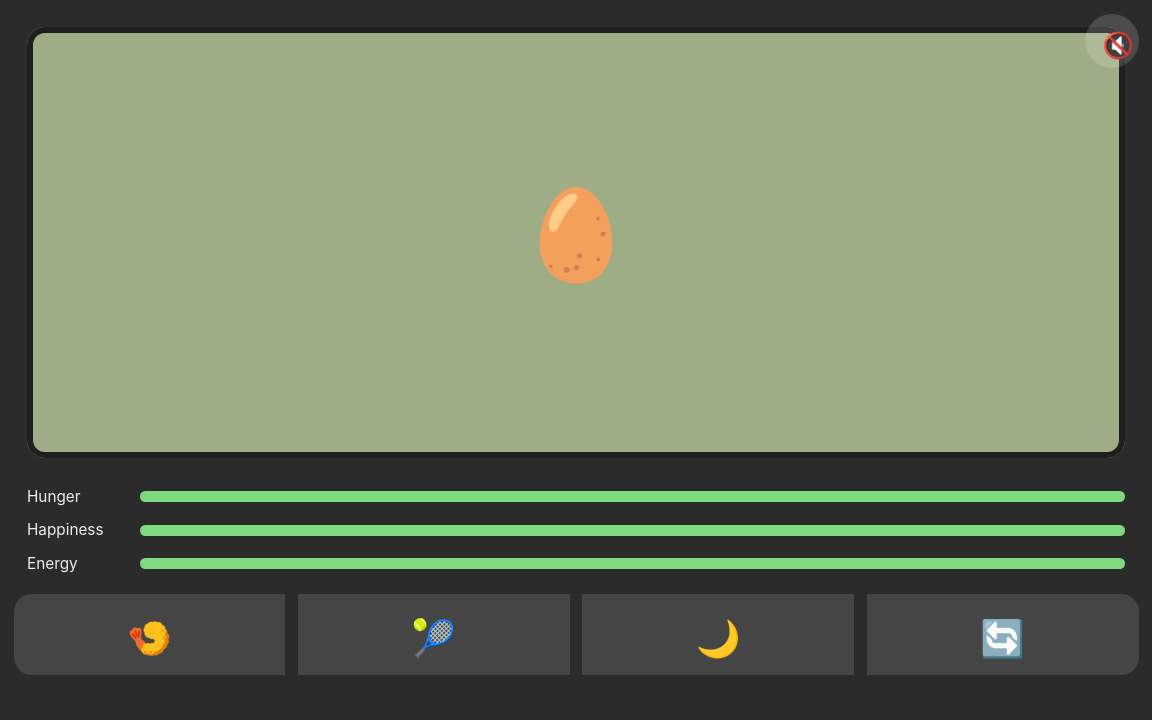
Tamagotchi page › toggling sound updates aria-pressed and mutes the sound engine
This screenshot has width=1152, height=720.
Click the button named "Sound off": point(1112, 40) [1084,14,1138,68]
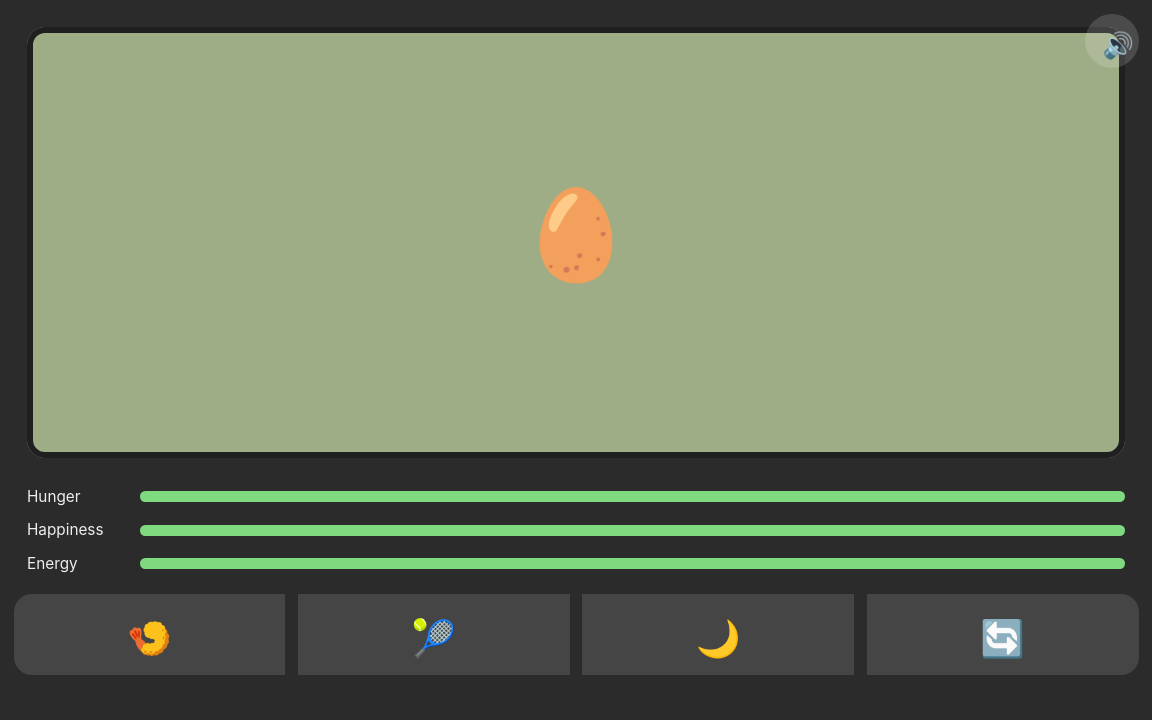
Expected: the button named "Sound on" is shown, [1084,14,1138,68]
